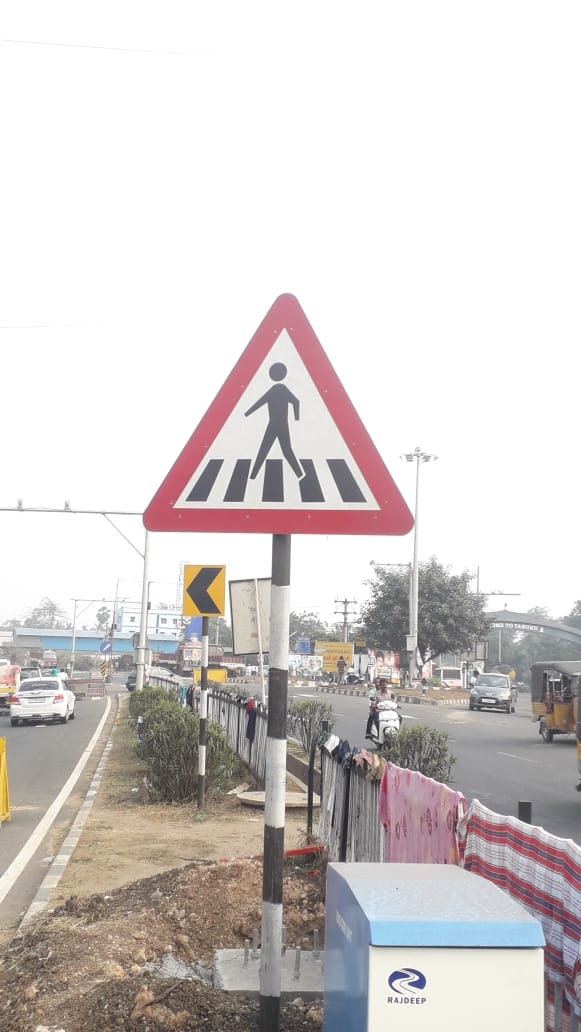pedestrian crossing: (133, 253, 455, 581)
